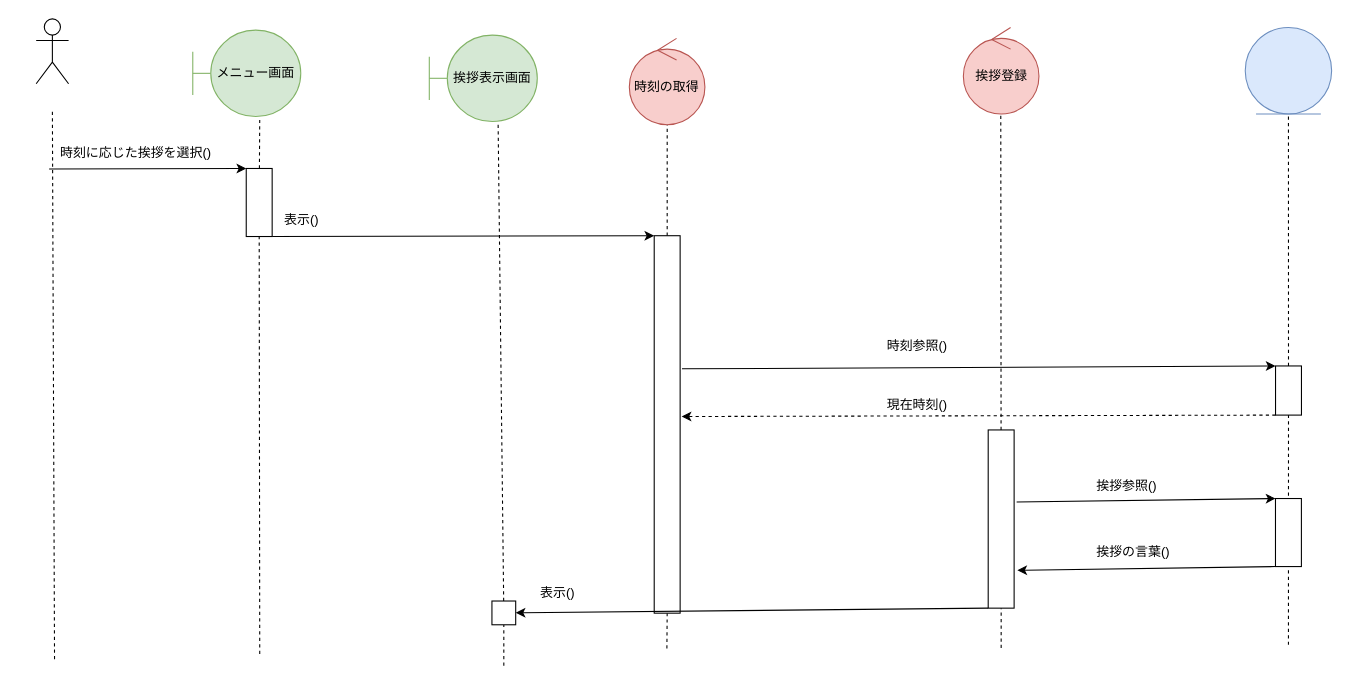
Some shapes in this 1350 by 686 pixel diagram are drawn without their labels. The box of each missing label's shape, as (x1, y1, x2, y2) in pixels:
RoboDog: (1244, 26, 1332, 114)
ユーザー: (35, 18, 69, 84)
